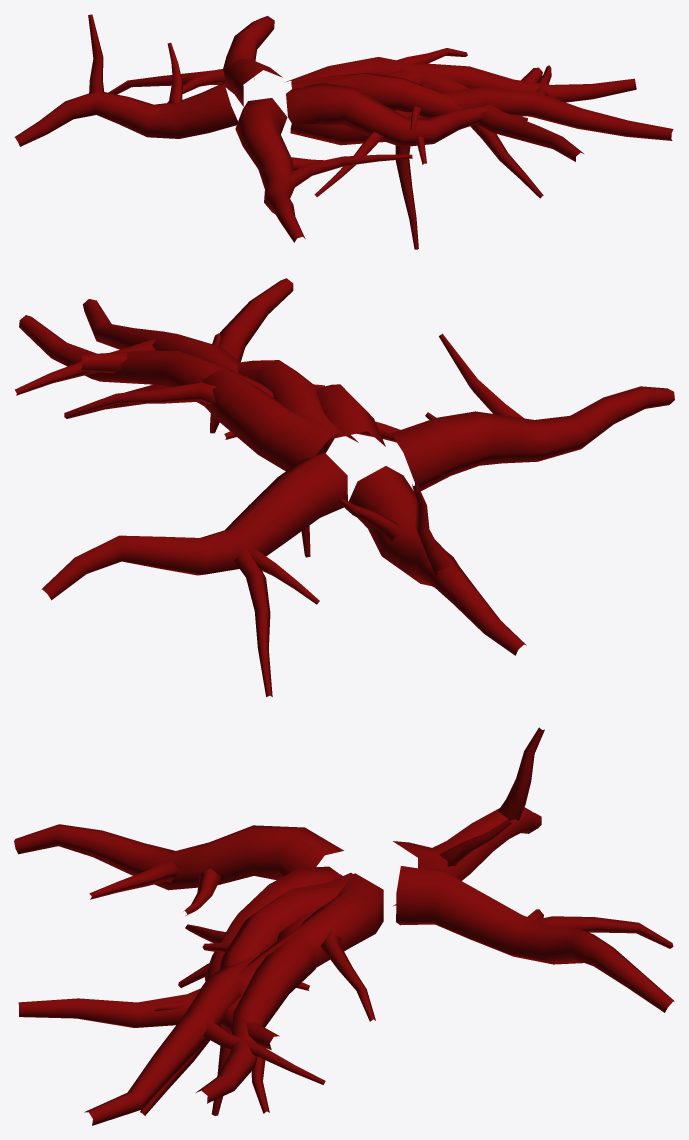
File: roots_d.glb
3 views of the same model, one above another, from view 1: azimuth 30°, elevation 25°; view 2: azimuth 150°, elevation 25°; view 3: azimuth 270°, elevation 25° (orthographic). The views are drawn at different scales.
Parts seen in each view (by area): view 1: LOD0; view 2: LOD0; view 3: LOD0.
Boxes of the visible parts, x1,y1,x2,y2 form: LOD0: (14,14,673,249); LOD0: (15,278,674,696); LOD0: (14,727,674,1125).
Size of what is drawn, in the model's own units: 3.47 by 1.3 by 3.03.
